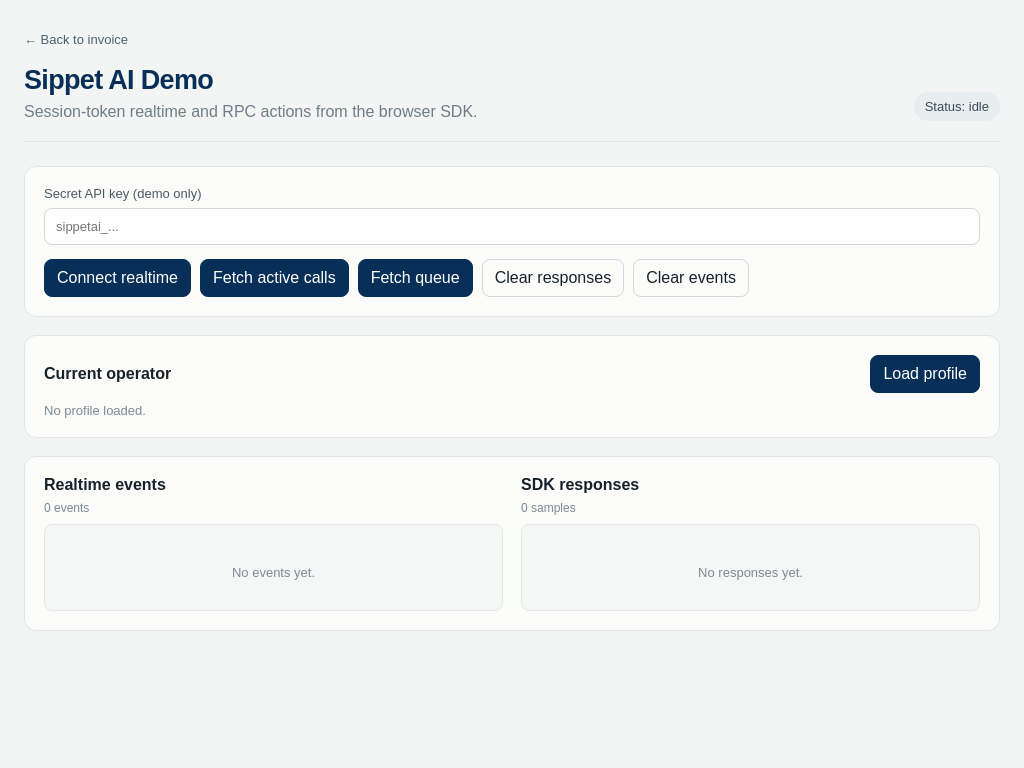
Test: reports token errors without opening a socket
Type "invalid-demo-key" into the password field labelled "Secret API key (demo only)". click: (512, 226)
box: [44,208,980,245]
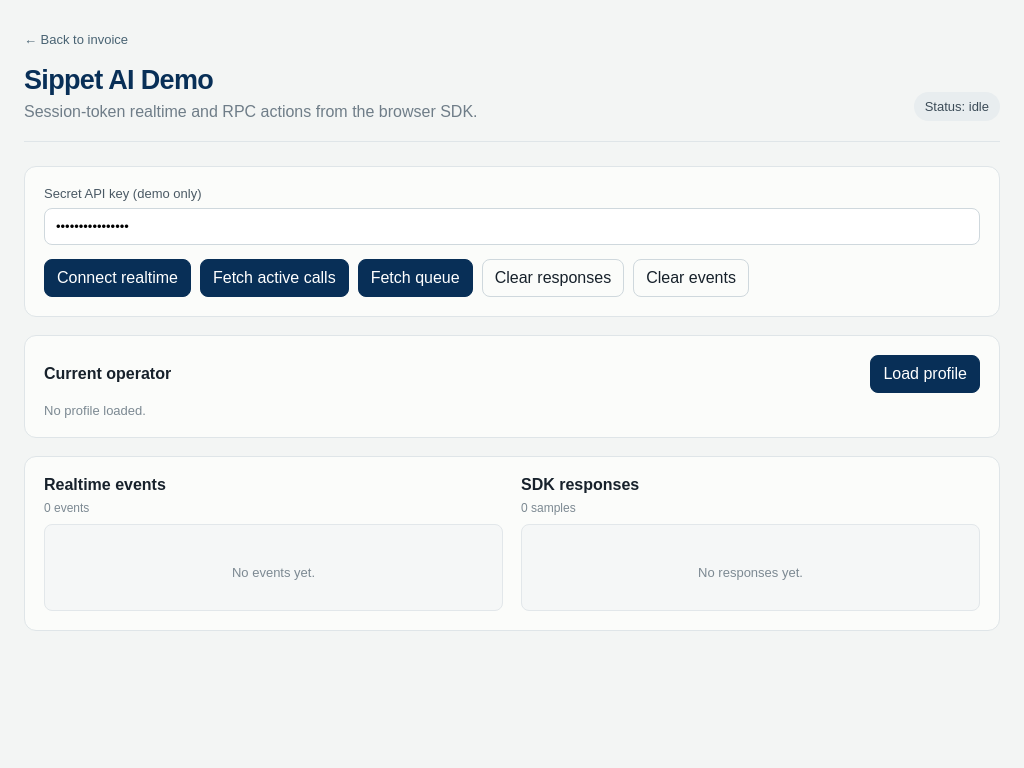
Click the button "Connect realtime". click: (118, 278)
box: [44,259,191,297]
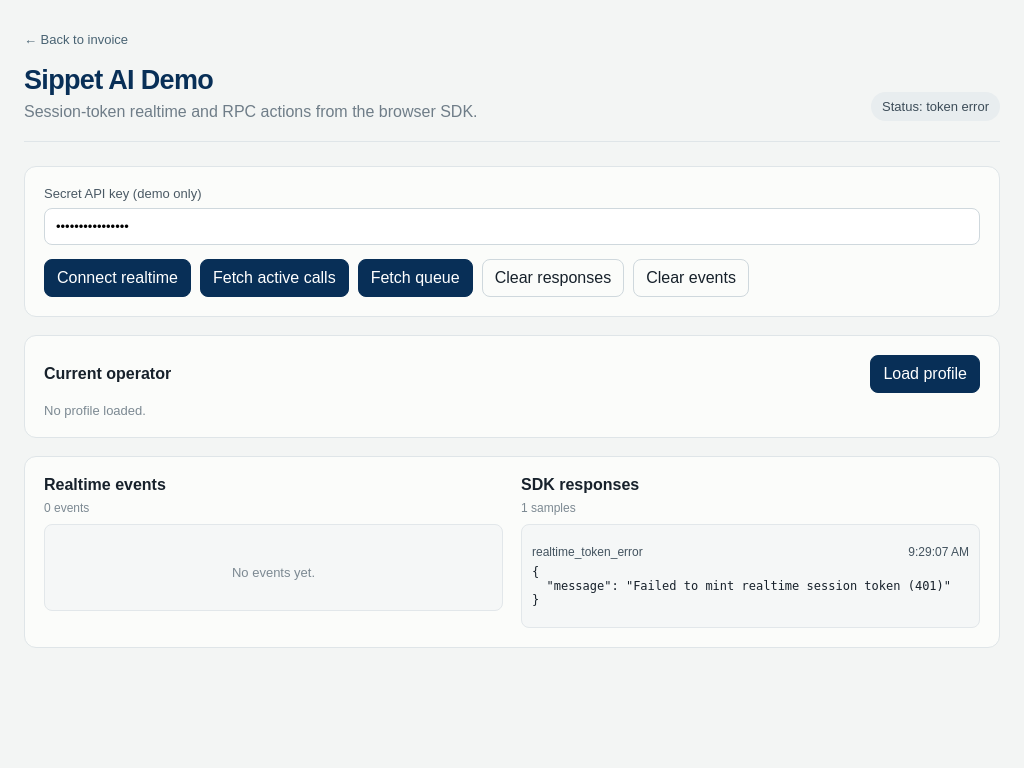
Expected: the text "{ \"message\": \"Failed to mint realtime session token (401)\" }" is shown, [532,565,969,607]
